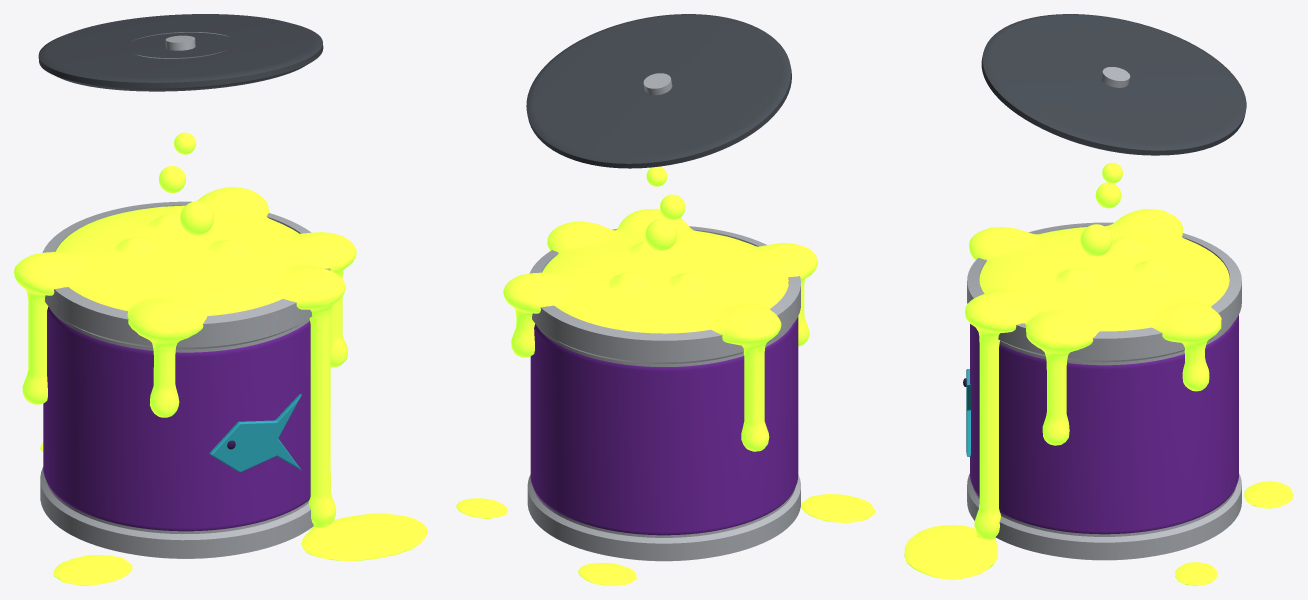
The model's file is zc_toxic_can.godot.glb.
3 views of the same model, side by side, from view 1: azimuth 30°, elevation 25°; view 2: azimuth 150°, elevation 25°; view 3: azimuth 270°, elevation 25° (orthographic). The views are drawn at different scales.
Parts seen in each view (by area): view 1: zc_toxic_can, blob1, zc_toxic_lid, Sphere, Sphere.001; view 2: zc_toxic_can, blob1, zc_toxic_lid, Sphere; view 3: zc_toxic_can, blob1, zc_toxic_lid, Sphere, Sphere.001.
Part boxes in pixels (<box>): zc_toxic_can: <box>40,201,330,558</box>; blob1: <box>14,187,427,585</box>; zc_toxic_lid: <box>38,14,323,91</box>; Sphere: <box>180,201,213,235</box>; Sphere.001: <box>159,166,185,192</box>; zc_toxic_can: <box>527,226,800,561</box>; blob1: <box>456,208,875,585</box>; zc_toxic_lid: <box>526,14,791,168</box>; Sphere: <box>645,219,677,250</box>; zc_toxic_can: <box>963,222,1241,560</box>; blob1: <box>904,209,1293,585</box>; zc_toxic_lid: <box>981,14,1246,155</box>; Sphere: <box>1080,224,1112,256</box>; Sphere.001: <box>1095,182,1121,208</box>.
Size of what is drawn, in the model's own units: 0.9358 by 1.25 by 0.9703.
1 material, 1 textured.
